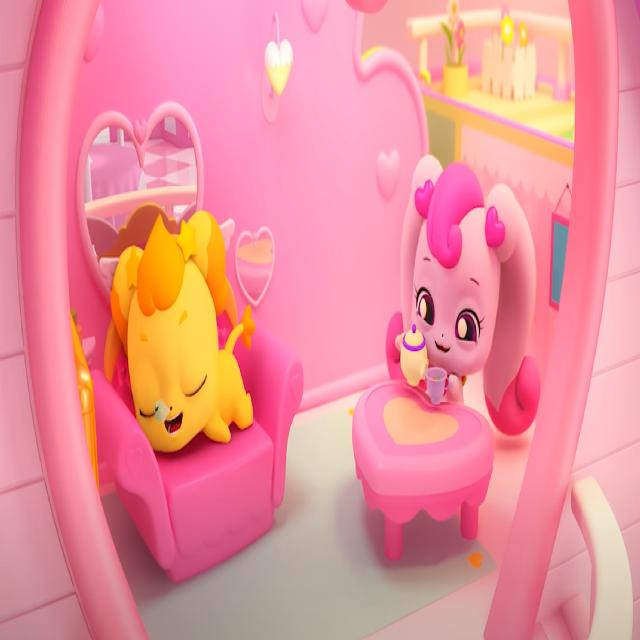Hachuping: (399, 150, 540, 438)
